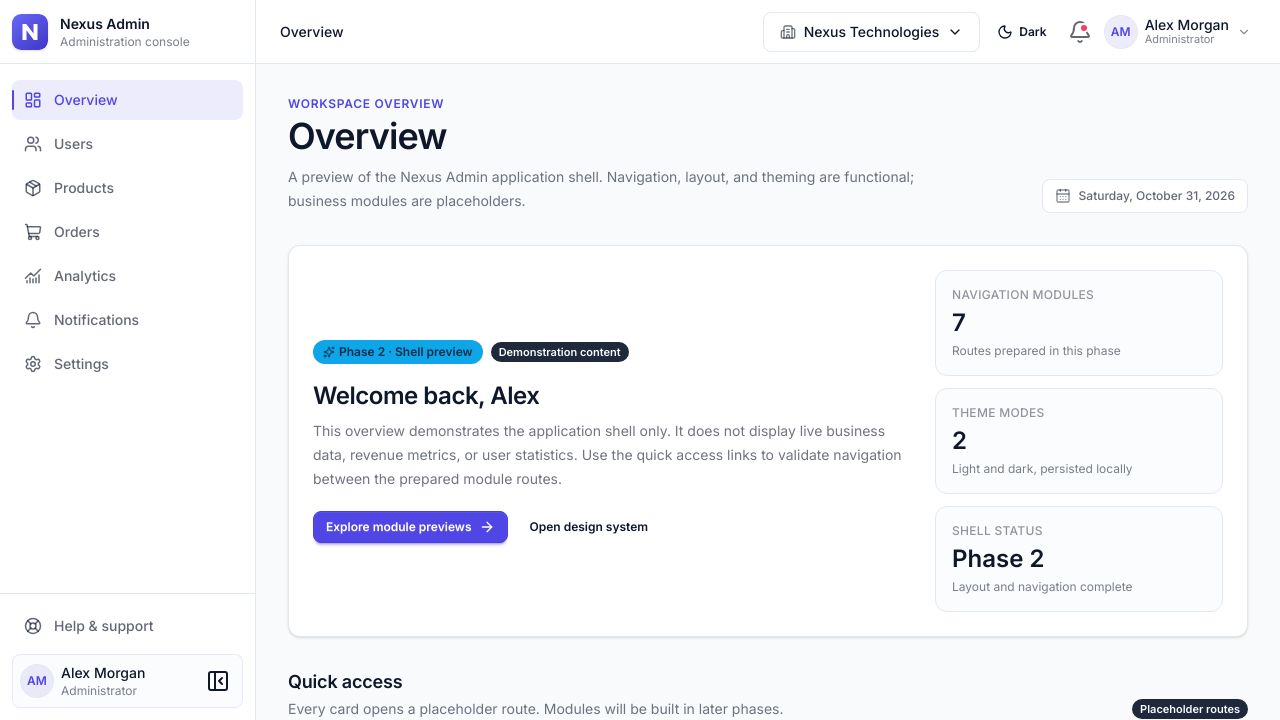
Scenario: DashboardLayout › switches workspaces from the workspace menu
The width and height of the screenshot is (1280, 720).
Check: the heading "Overview" is shown, box 288,114 -> 447,158
Click the button with aria-label "Switch workspace: Nexus Technologies".
click(872, 32)  # box 763,12 -> 980,52
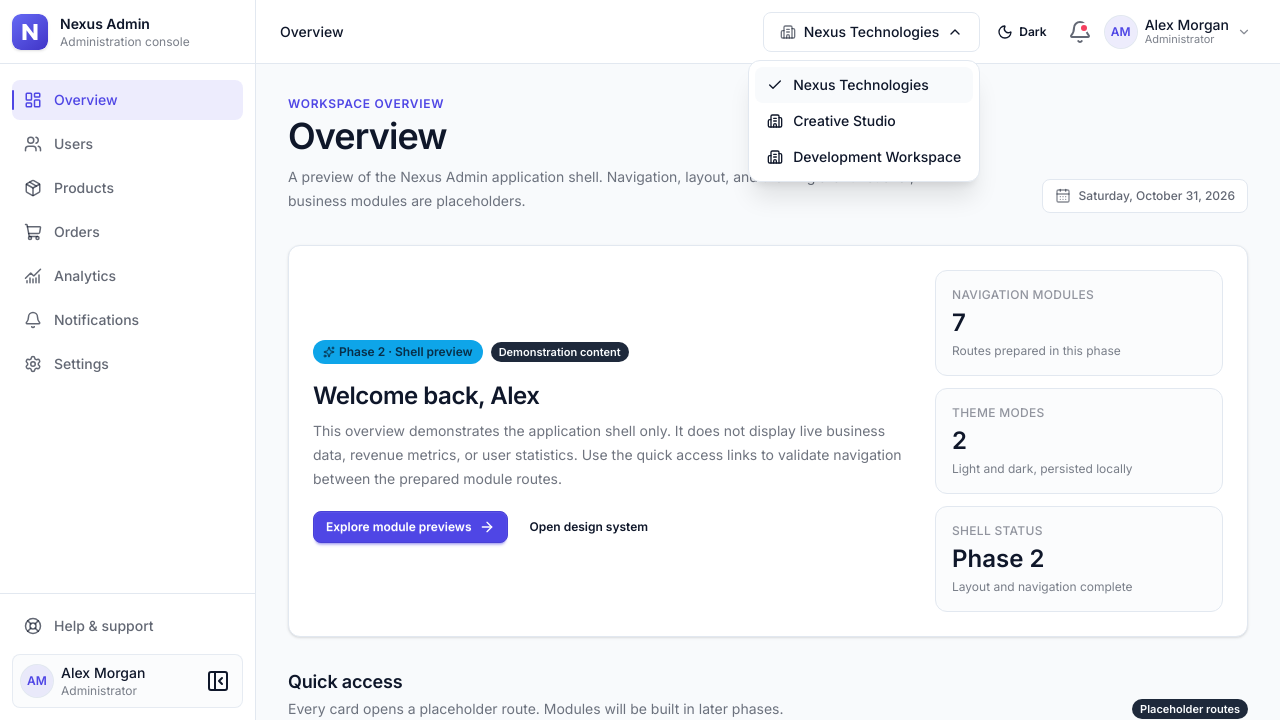
Check: the menu is shown, box 748,60 -> 980,182
Click the menu item "Creative Studio".
click(864, 120)  # box 755,102 -> 973,138
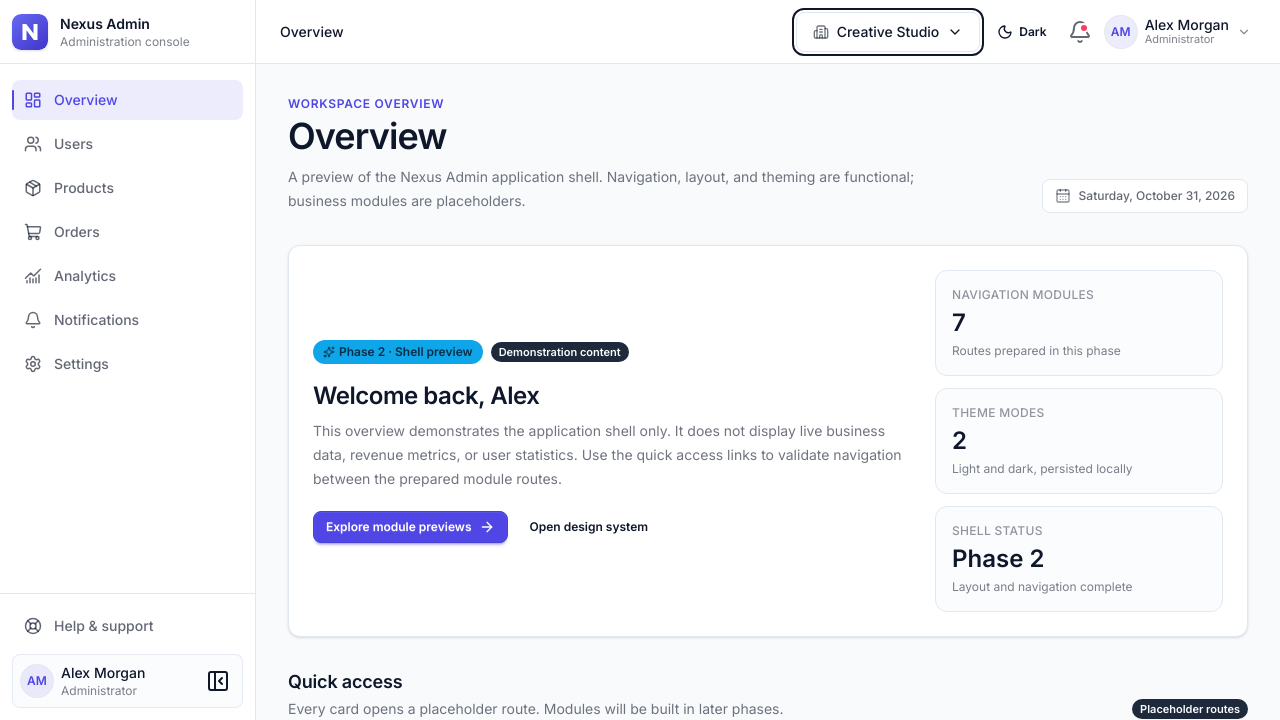
Check: the button with aria-label "Switch workspace: Creative Studio" is shown, box 796,12 -> 980,52
Check: the menu is gone
